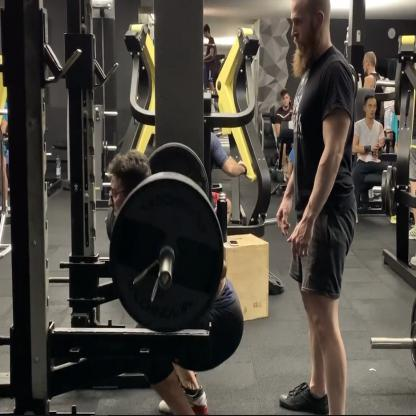barbell: (111, 173, 225, 333)
